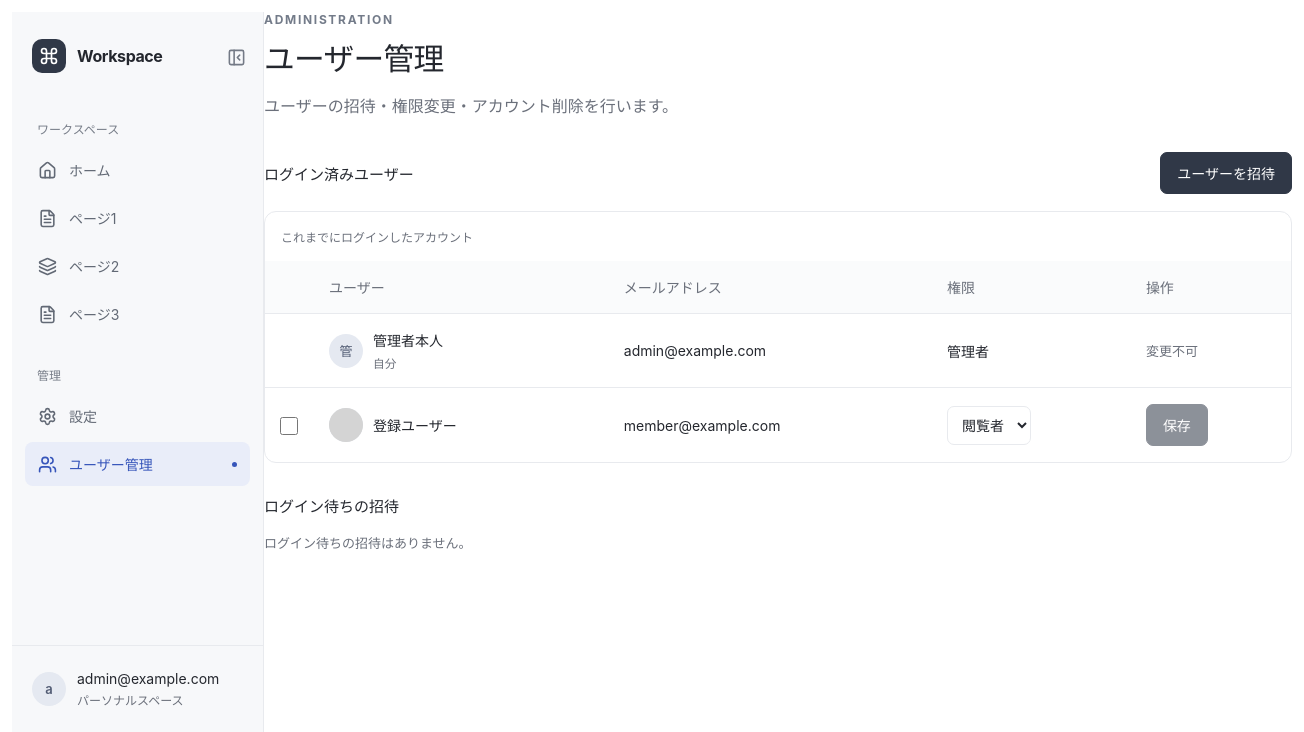
Test: 管理者専用ユーザー管理 › DBで権限を取り消されたら失敗を表示し、取得済み一覧と操作を隠す
Check: the text "登録ユーザー" is shown, box left=373, top=415, right=457, bottom=435
Step 1. Select "編集者" in the dropdown named "member@example.comの権限" → (989, 425), box left=947, top=406, right=1031, bottom=445
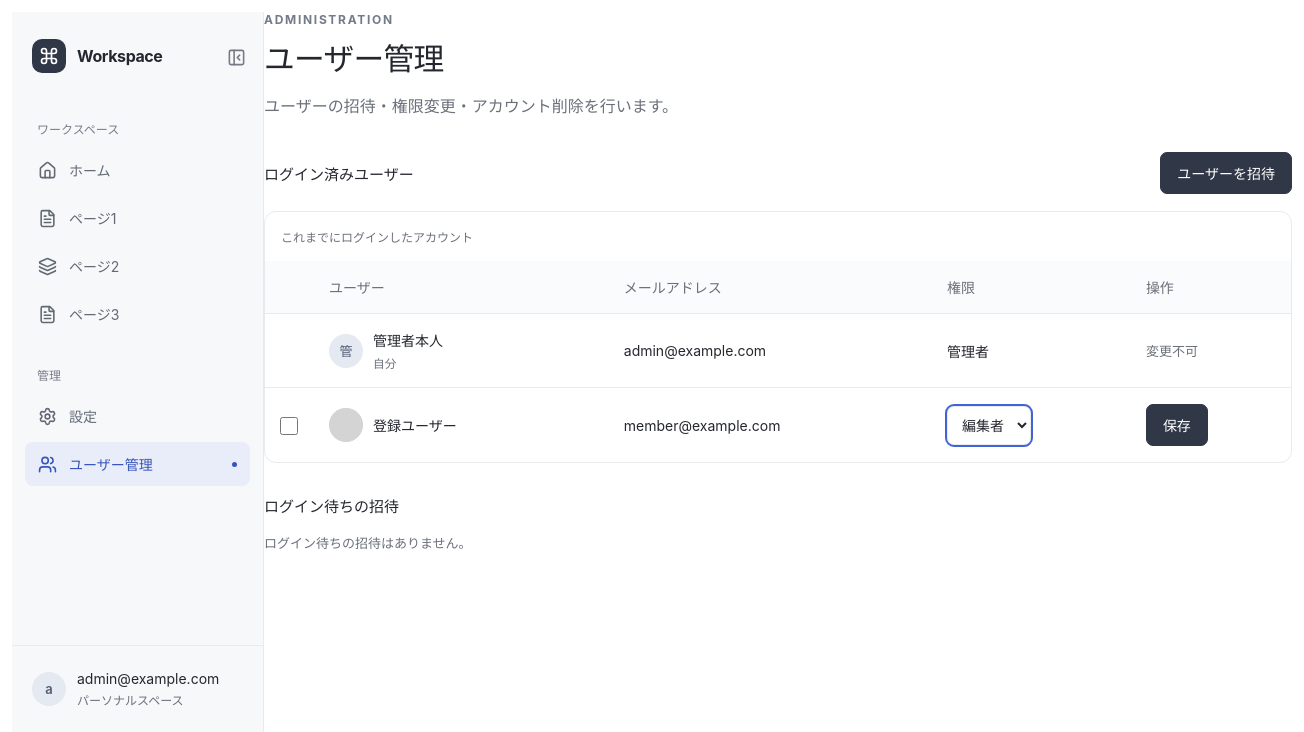
Step 2. Click the button "保存" → click(1177, 425), box left=1146, top=404, right=1208, bottom=446
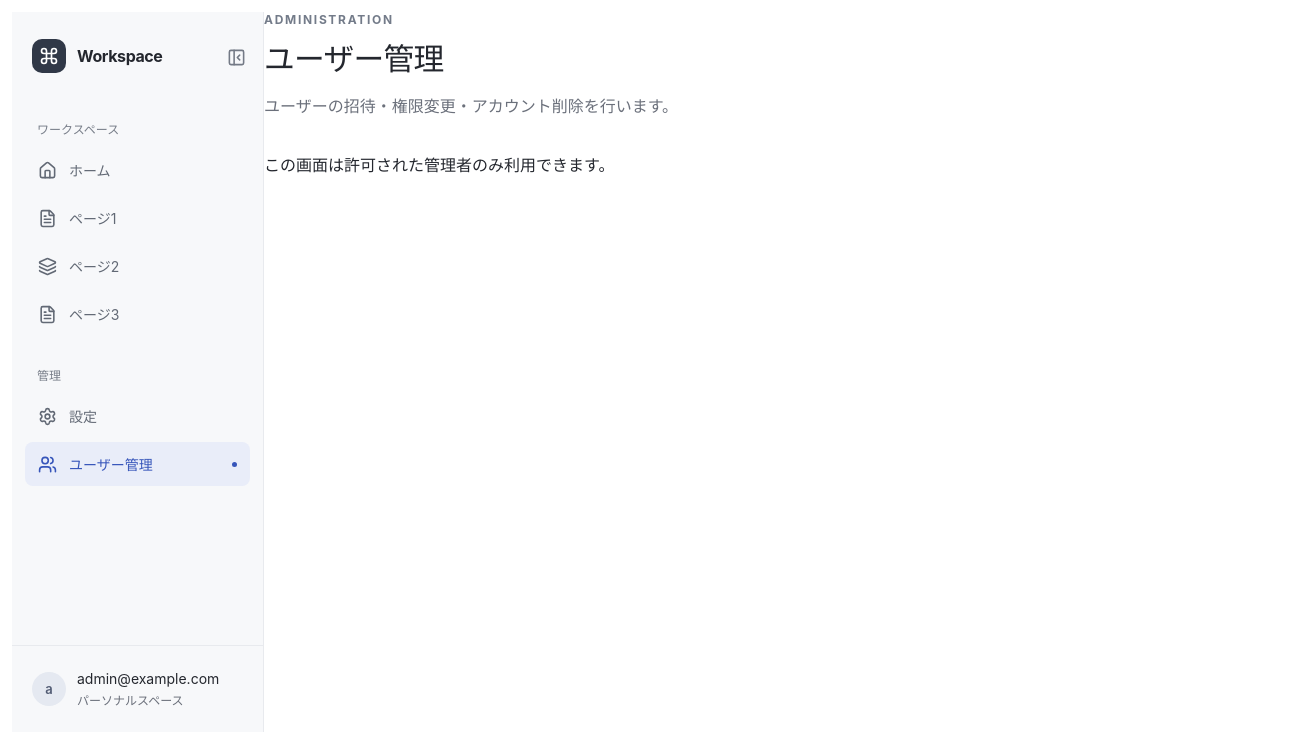
Check: the message "この画面は許可された管理者のみ利用できます。" is shown, box left=264, top=155, right=614, bottom=175
Check: the text "登録ユーザー" is gone
Check: the button "ユーザーを招待" is gone
